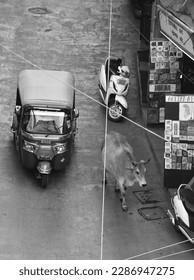keke: (11, 68, 80, 190)
